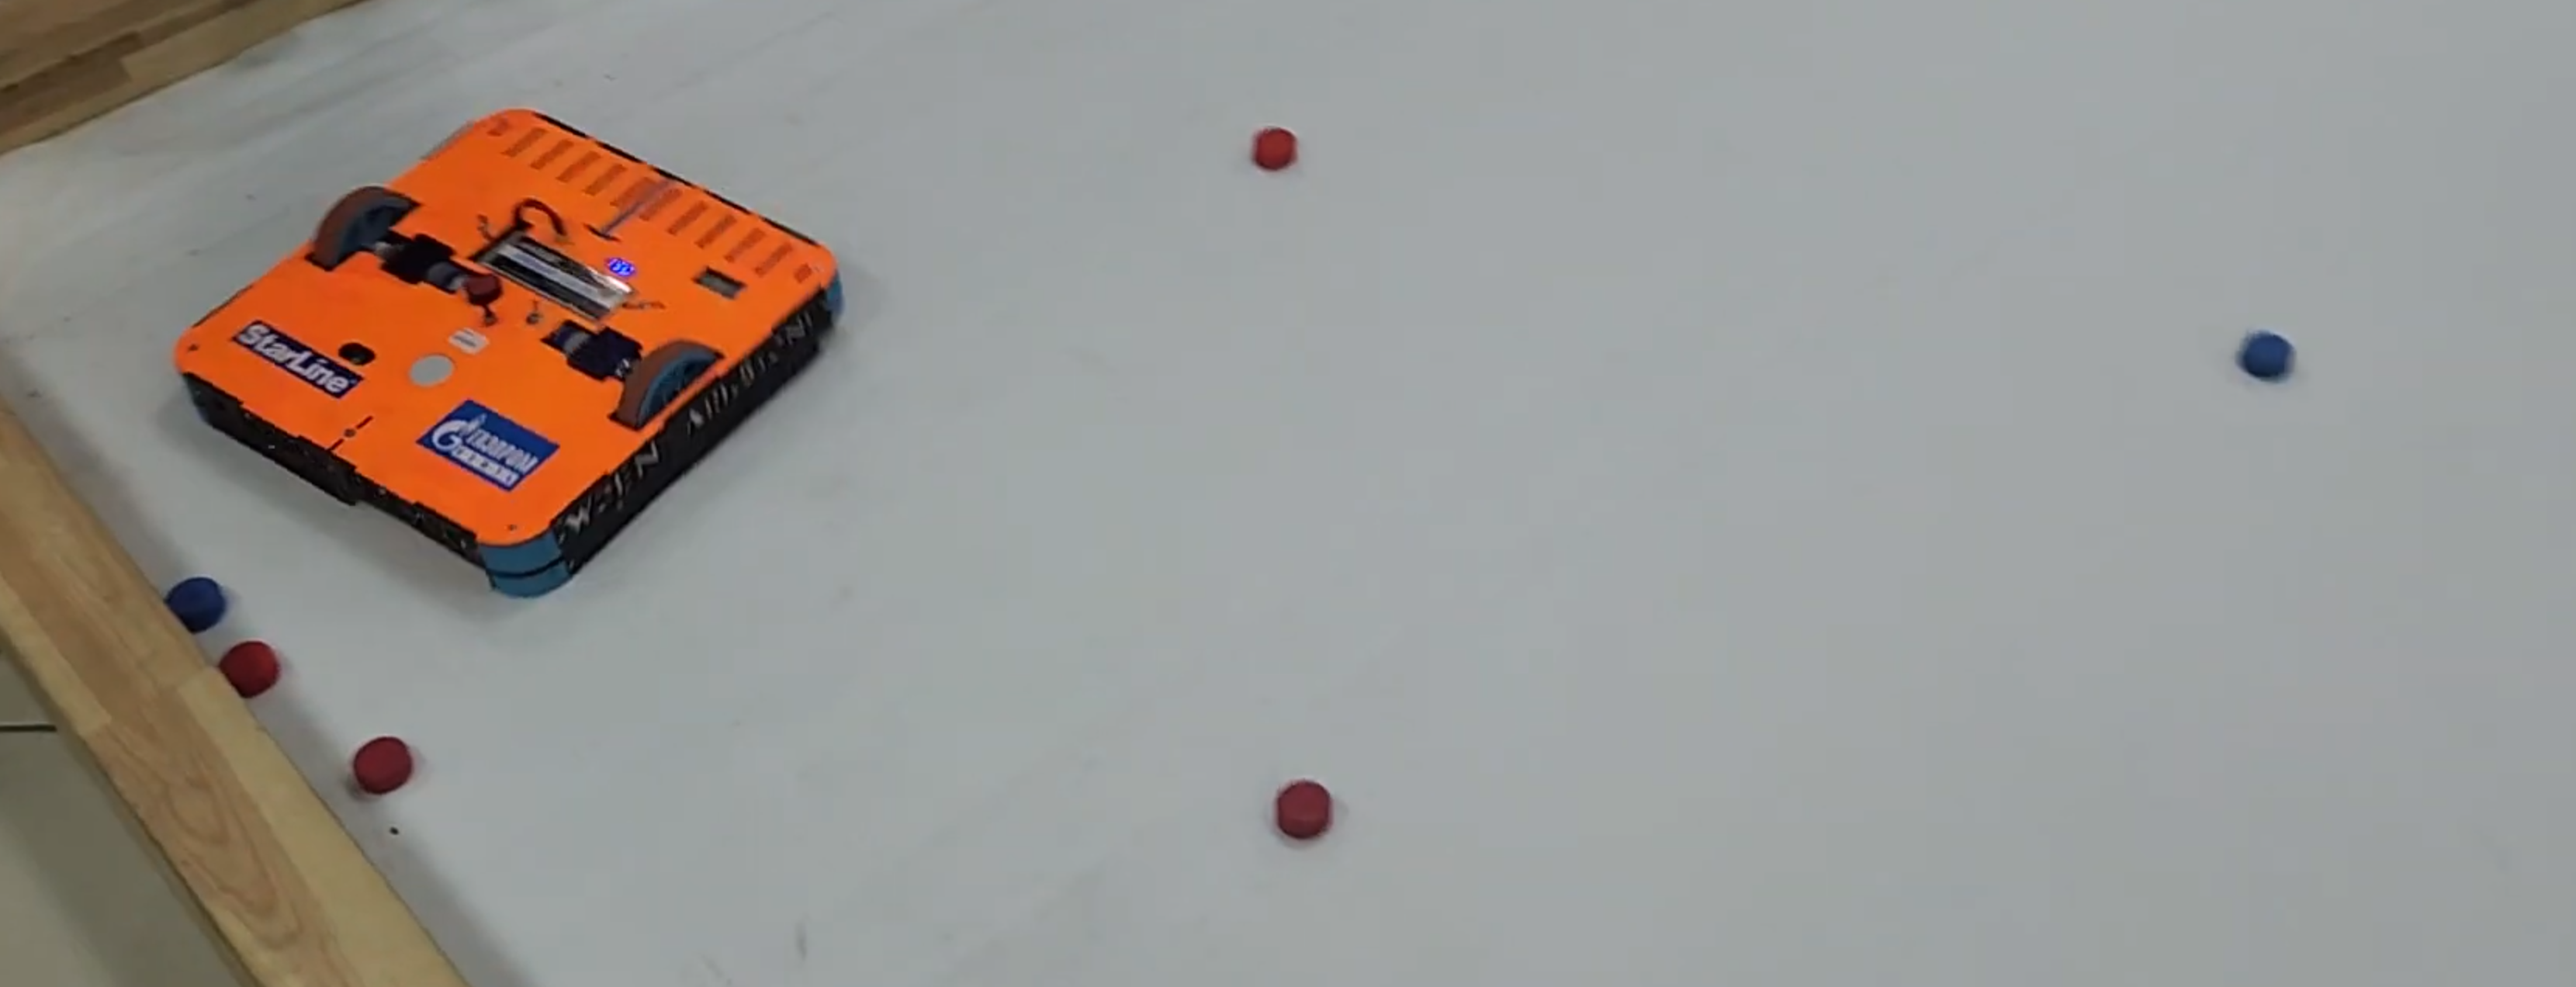blue_puck: (159, 578, 220, 632), (2236, 330, 2297, 383)
red_puck: (1276, 775, 1329, 844), (355, 732, 411, 796), (220, 640, 276, 698), (1252, 130, 1296, 169)
